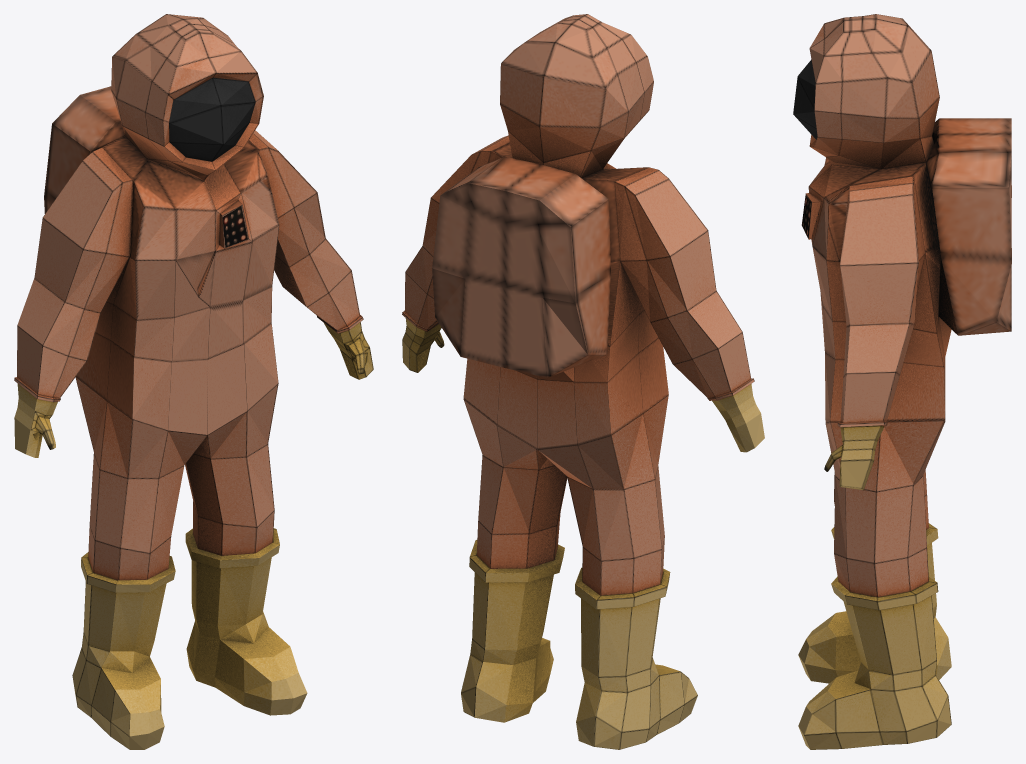
The model's file is spaceman.dae.
3 renders of one model, left to right at view 1: azimuth 30°, elevation 25°; view 2: azimuth 150°, elevation 25°; view 3: azimuth 270°, elevation 25°, orthographic.
Visible parts, largest first — view 1: Cube; view 2: Cube; view 3: Cube.
Part boxes in pixels (x1=…): Cube: x1=14, y1=14, x2=373, y2=749; Cube: x1=402, y1=14, x2=764, y2=749; Cube: x1=793, y1=14, x2=1011, y2=749.
Bounding box in the file's own units: 10.94 × 5.91 × 20.61.
1 material, 1 textured.
